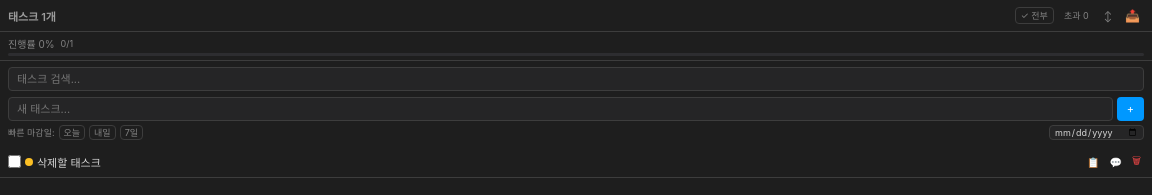
Test: TasksPanel › 삭제 버튼 클릭 시 태스크가 제거된다
The width and height of the screenshot is (1152, 195).
Click the button titled "삭제" at (1136,162), box [1129,152,1144,171]
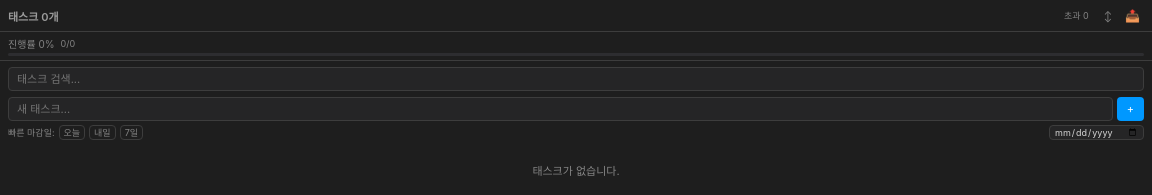
Check: the text "삭제할 태스크" is gone
Check: the text "태스크 0개" is shown, box [8,10,58,24]
